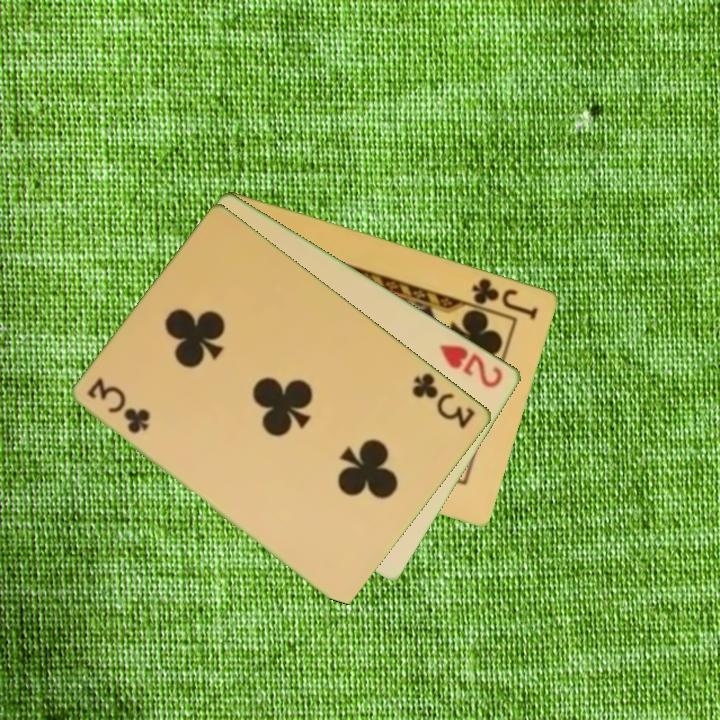2h: (436, 340, 507, 391)
3c: (408, 369, 479, 432), (84, 374, 154, 437)
Jc: (469, 274, 542, 323)
